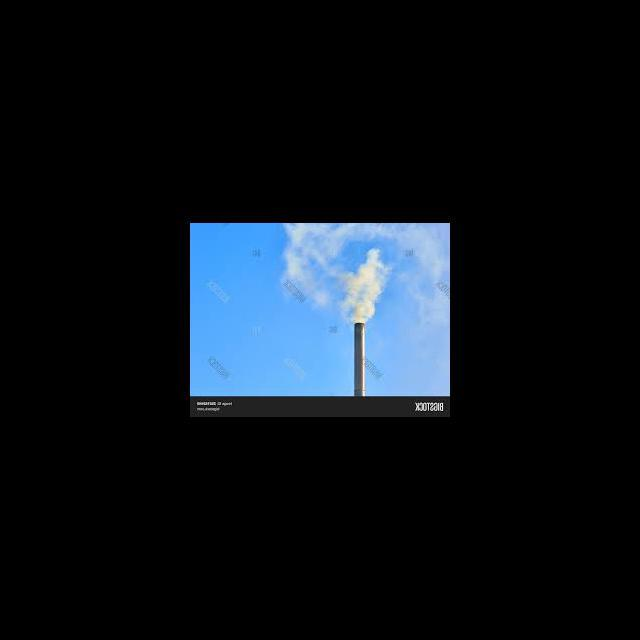Smoke: (286, 224, 404, 323)
